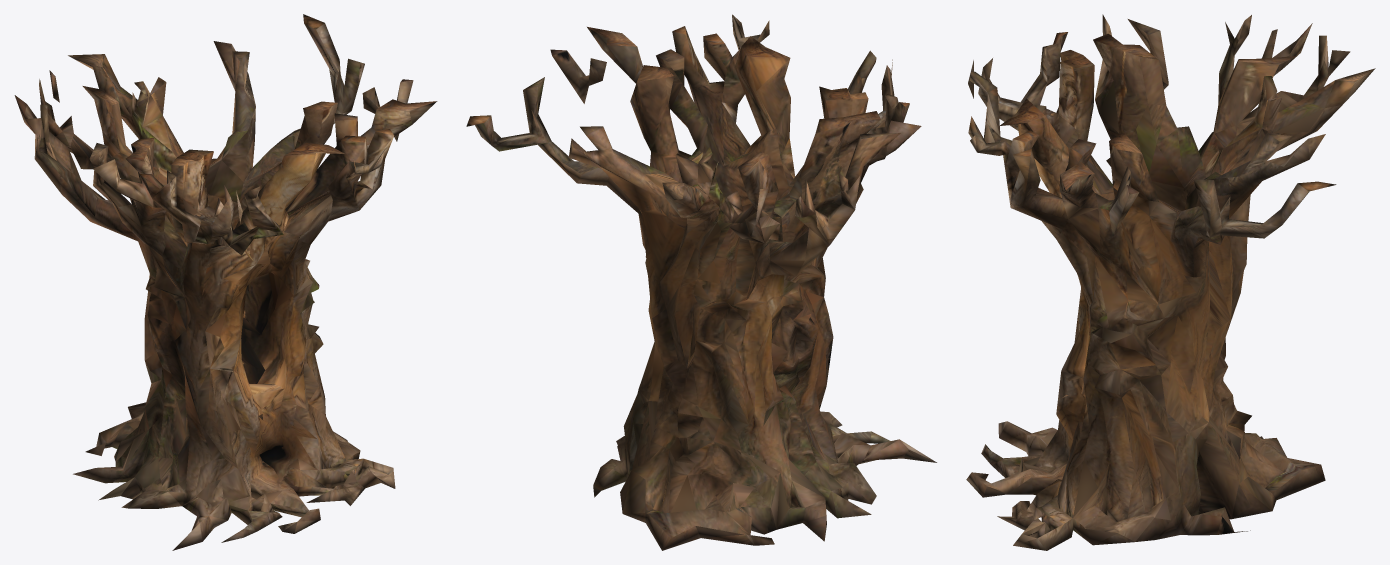
Rendered from _1_Thick_Big.fbx.
The picture shows the model from 3 angles, left to right: view 1: azimuth 30°, elevation 25°; view 2: azimuth 150°, elevation 25°; view 3: azimuth 270°, elevation 25°; orthographic projection. The views are drawn at different scales.
Visible parts, largest first — view 1: Mesh1; view 2: Mesh1; view 3: Mesh1.
Part boxes in pixels (bbox=[...]): Mesh1: bbox=[14, 14, 437, 550]; Mesh1: bbox=[466, 14, 936, 550]; Mesh1: bbox=[966, 14, 1375, 550].
Bounding box in the file's own units: 194 × 201 × 188.
1 material, 1 textured.
